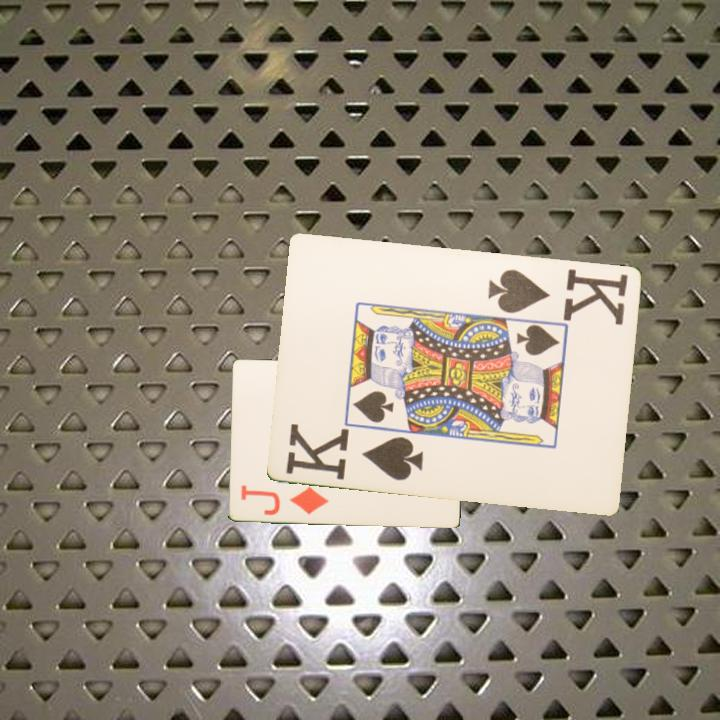Jd: (238, 481, 332, 518)
Ks: (484, 265, 632, 327), (282, 421, 427, 483)
